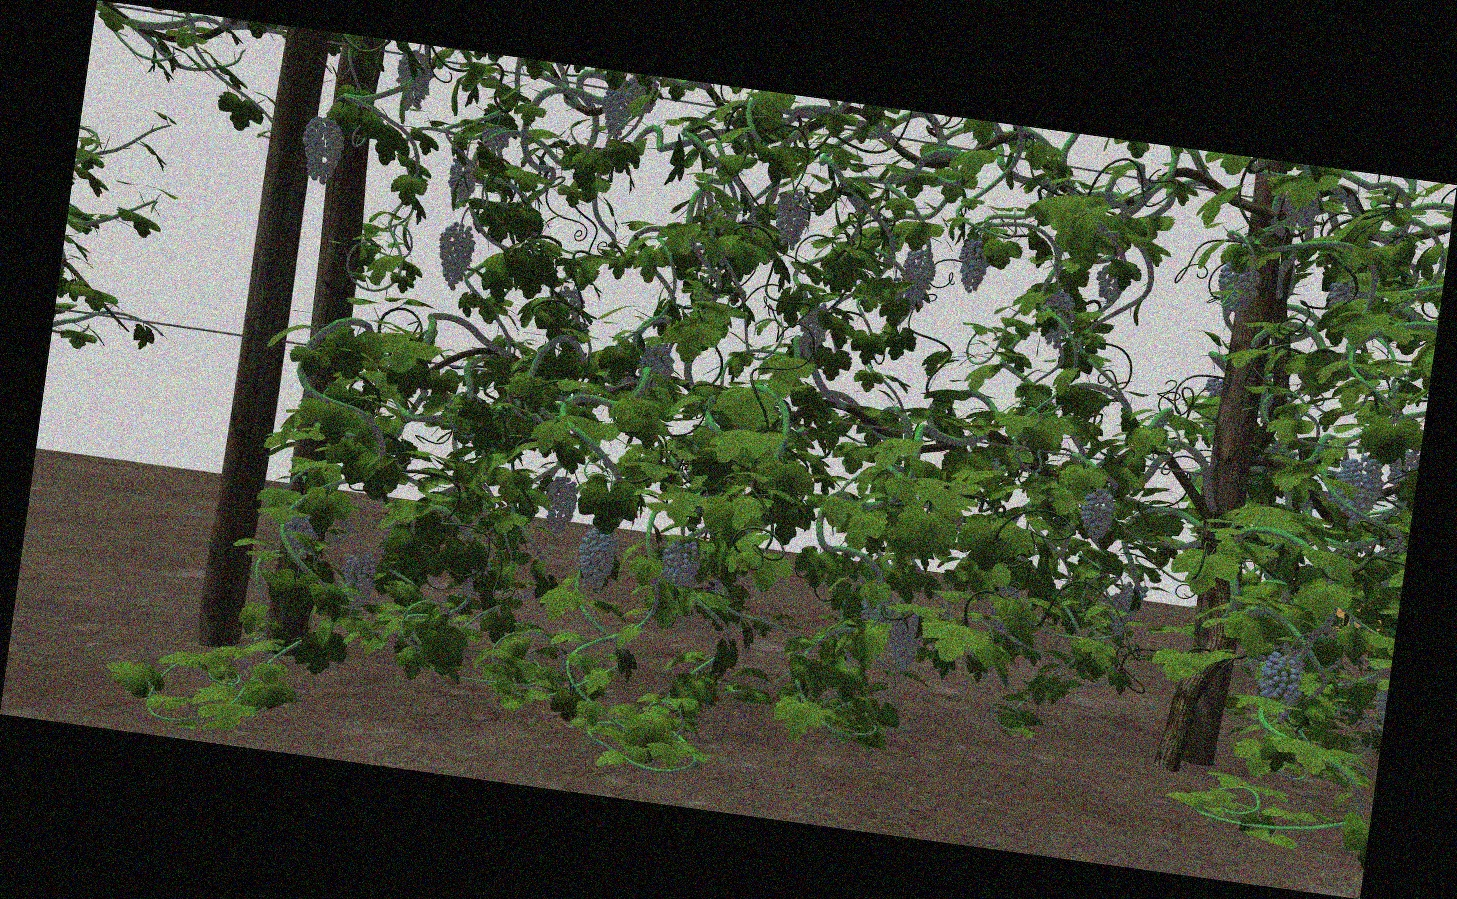grape: (1334, 456, 1379, 525), (299, 115, 343, 185), (1257, 650, 1307, 708), (576, 526, 616, 593), (436, 220, 474, 291), (887, 605, 925, 672), (768, 188, 810, 251), (898, 246, 936, 309), (1217, 263, 1260, 316), (394, 50, 430, 112), (542, 476, 579, 536), (957, 232, 991, 294), (660, 540, 699, 590), (1041, 290, 1073, 350), (343, 551, 377, 608), (1079, 489, 1116, 539), (600, 83, 630, 138), (446, 161, 476, 208), (624, 77, 660, 114), (283, 518, 315, 559), (639, 345, 675, 381), (1096, 263, 1123, 301)
